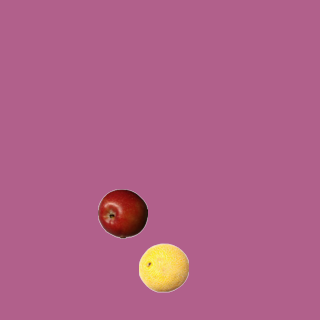Apple Braeburn: (97, 188, 147, 238)
Cantaloupe 1: (138, 242, 188, 292)
